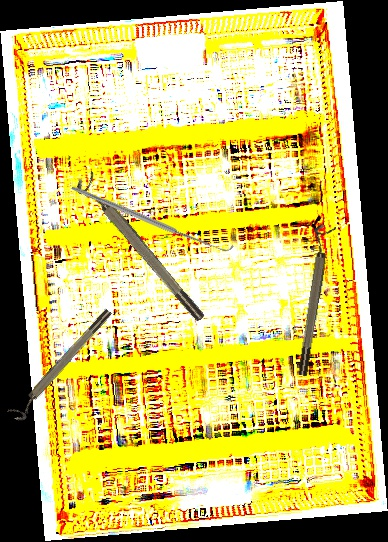Fixation Ring: (72, 170, 208, 329), (6, 306, 119, 425), (288, 223, 337, 377)
Hook Surgical: (70, 131, 235, 304)
